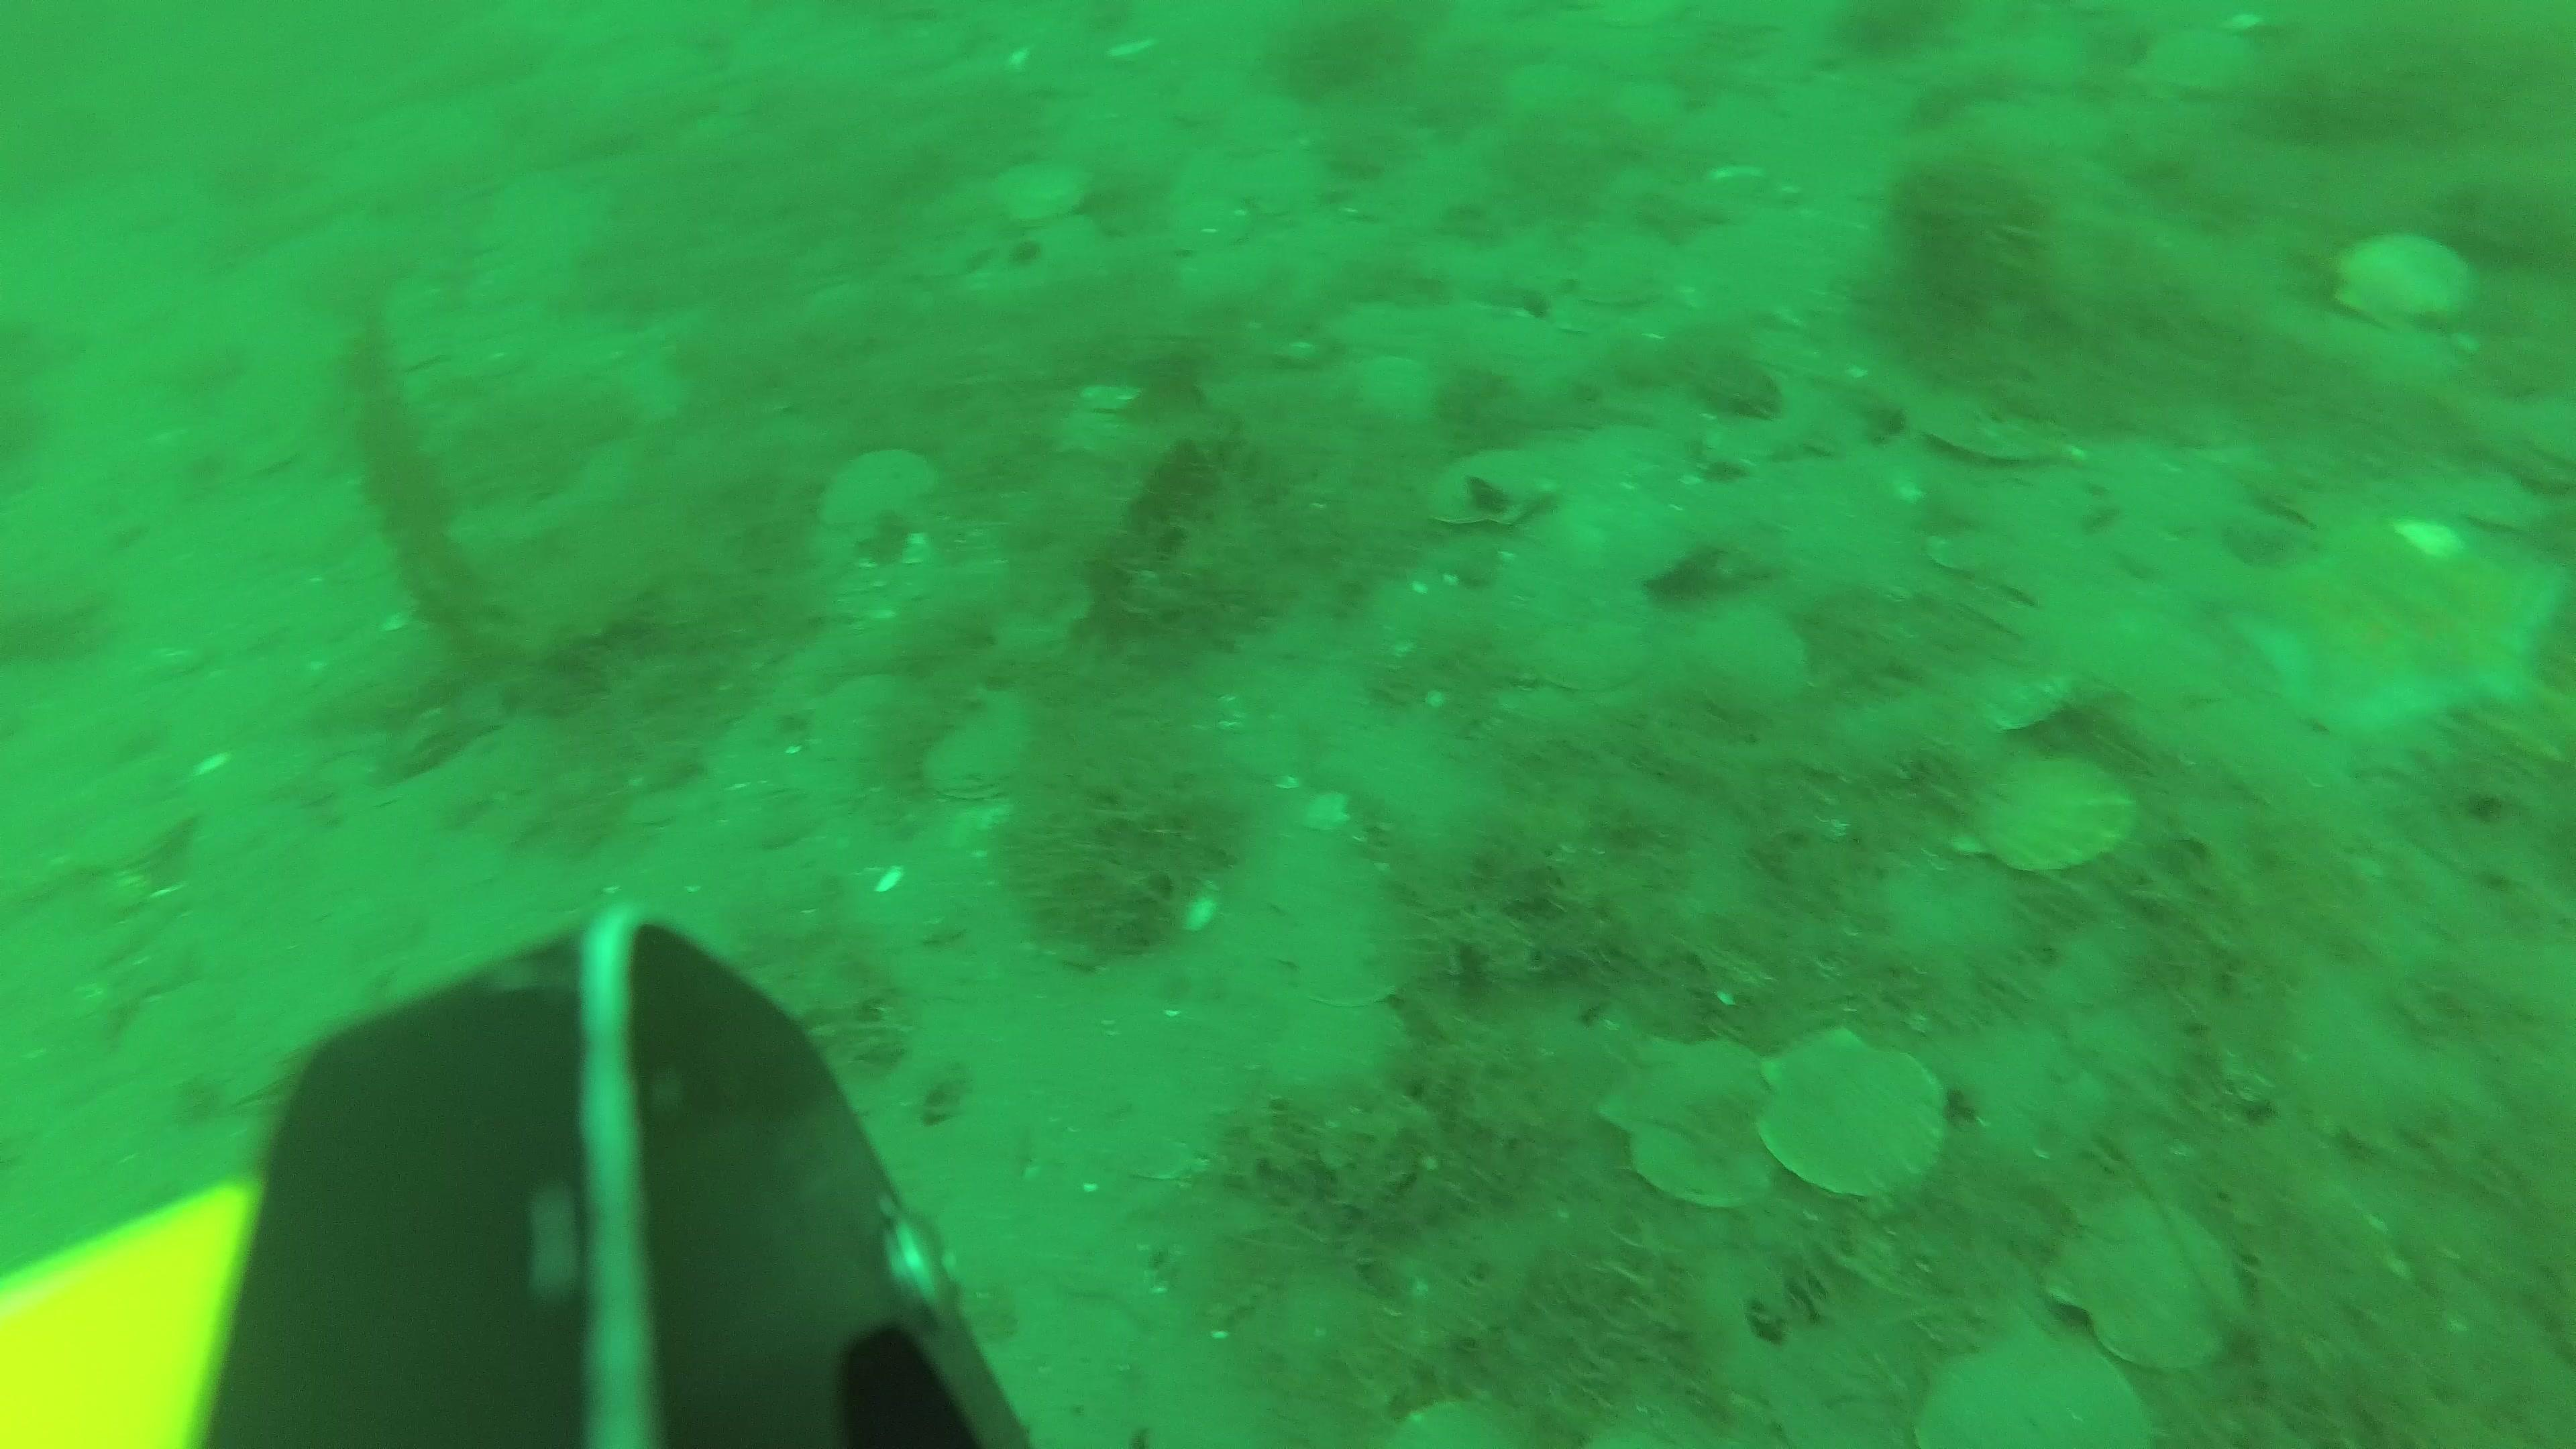scallop: (1759, 1017, 1955, 1207), (1603, 1039, 1796, 1214), (2054, 1200, 2249, 1368), (1923, 1339, 2153, 1449), (1974, 752, 2143, 888), (922, 694, 1063, 809), (1688, 610, 1819, 725), (2344, 232, 2475, 341), (805, 672, 954, 766), (819, 453, 947, 550), (1431, 442, 1562, 534), (1923, 398, 2054, 488), (1541, 605, 1654, 708), (996, 154, 1106, 237), (1240, 147, 1329, 216), (1166, 189, 1249, 260), (1582, 241, 1667, 308), (1184, 255, 1272, 313)
starfish: (2231, 538, 2576, 757)
